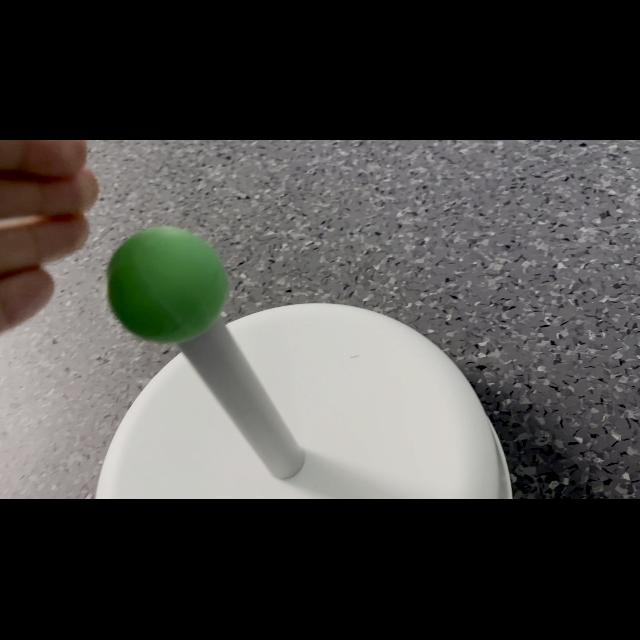objects: (100, 220, 232, 350)
